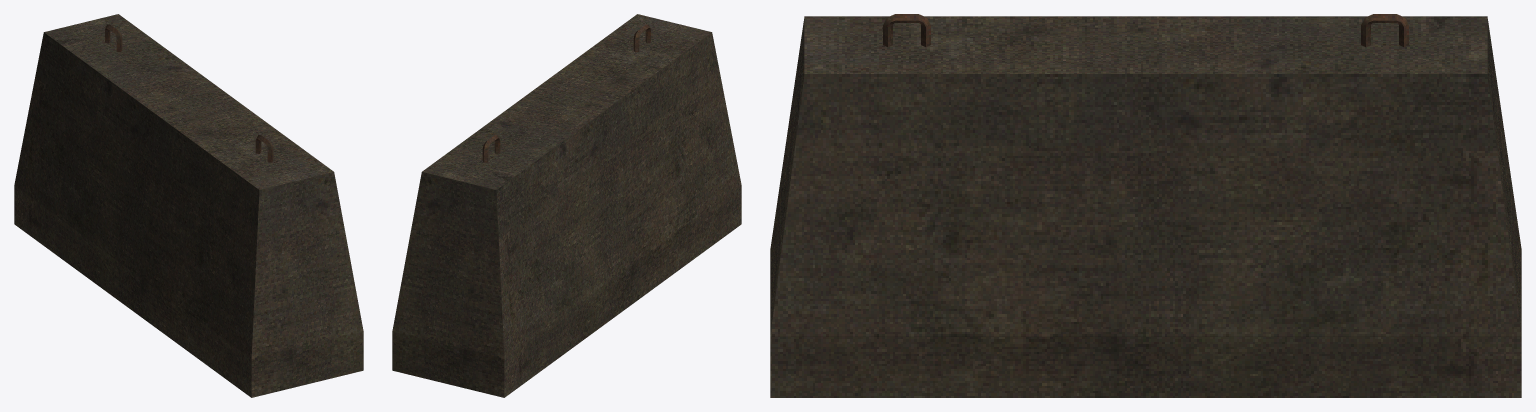
The model's file is concrete_block_mx_1.glb.
3 views of the same model, side by side, from view 1: azimuth 30°, elevation 25°; view 2: azimuth 150°, elevation 25°; view 3: azimuth 270°, elevation 25° (orthographic). The views are drawn at different scales.
Parts seen in each view (by area): view 1: concrete_block_mx_1; view 2: concrete_block_mx_1; view 3: concrete_block_mx_1.
Part boxes in pixels (x1,y1,x2,y2): concrete_block_mx_1: (14,14,363,397); concrete_block_mx_1: (392,14,741,397); concrete_block_mx_1: (770,14,1521,397).
Size of the model in its own units: 0.6 by 1.1 by 2.2.
2 materials, 2 textured.
